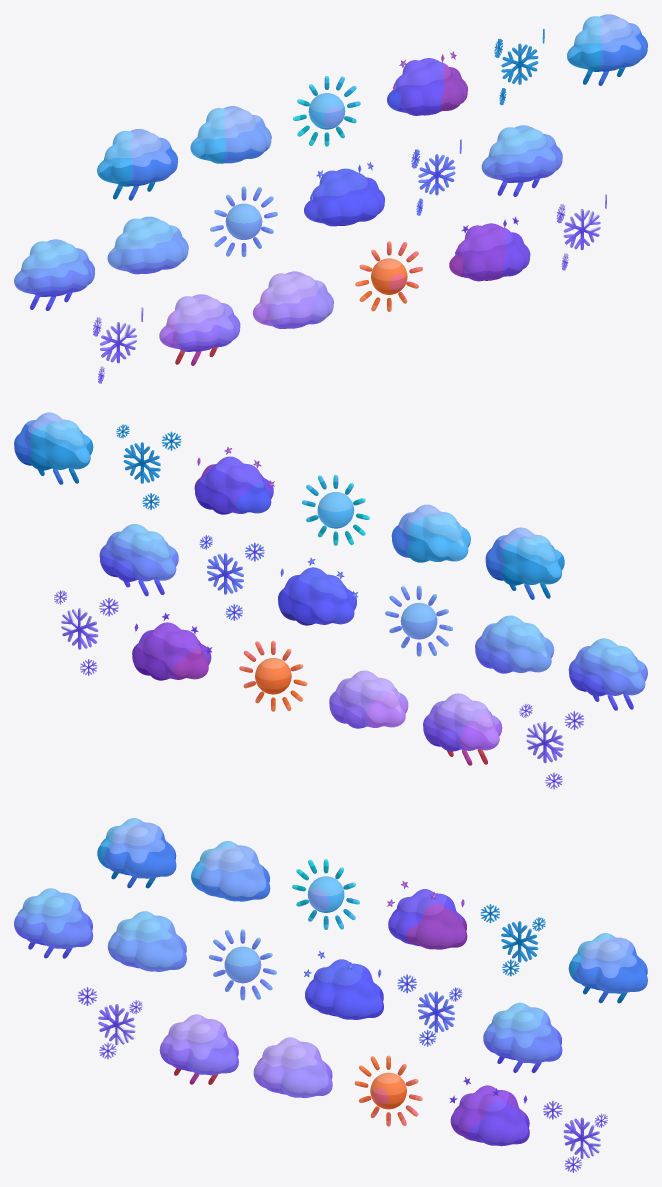
File: weather.glb
3 renders of one model, top to bottom at view 1: azimuth 30°, elevation 25°; view 2: azimuth 150°, elevation 25°; view 3: azimuth 330°, elevation 25°, orthographic.
Parts seen in each view (by area): view 1: Cloud.006, Cloud.010, Cloud.009, Cloud.007, Cloud.011, Cloud.003, Cloud.004, Cloud.001, Cloud.008, Cloud.005, Cloud.002, Sphere (+6 smaller); view 2: Cloud.001, Cloud.004, Cloud.009, Cloud.006, Cloud.010, Cloud.003, Cloud.011, Cloud.007, Cloud.008, Cloud.002, Cloud.005, Sphere.001 (+6 smaller); view 3: Cloud.011, Cloud.004, Cloud.009, Cloud.001, Cloud.003, Cloud.006, Cloud.010, Cloud.007, Cloud.002, Cloud.008, Cloud.005, Sphere.001 (+6 smaller).
Part boxes in pixels (box(x1,y1,x2,y2)): Cloud.006: box(107, 216, 188, 274); Cloud.010: box(481, 125, 562, 182); Cloud.009: box(252, 271, 333, 328); Cloud.007: box(159, 294, 240, 351); Cloud.011: box(567, 14, 647, 71); Cloud.003: box(190, 106, 271, 163); Cloud.004: box(14, 239, 94, 296); Cloud.001: box(97, 129, 177, 186); Cloud.008: box(449, 223, 530, 281); Cloud.005: box(304, 168, 384, 226); Cloud.002: box(387, 58, 467, 115); Sphere: box(308, 93, 345, 129); Cloud.001: box(485, 527, 564, 585); Cloud.004: box(568, 638, 647, 696); Cloud.009: box(329, 670, 408, 728); Cloud.006: box(475, 615, 554, 673); Cloud.010: box(99, 524, 178, 581); Cloud.003: box(391, 504, 470, 562); Cloud.011: box(14, 412, 93, 470); Cloud.007: box(423, 693, 502, 751); Cloud.008: box(132, 622, 211, 680); Cloud.002: box(194, 456, 273, 514); Cloud.005: box(278, 567, 356, 625); Sphere.001: box(400, 602, 437, 639); Cloud.011: box(568, 933, 647, 993); Cloud.004: box(14, 888, 93, 948); Cloud.009: box(253, 1037, 332, 1097); Cloud.001: box(97, 818, 176, 878); Cloud.003: box(191, 841, 270, 901); Cloud.006: box(107, 911, 186, 971); Cloud.010: box(483, 1002, 562, 1063); Cloud.007: box(159, 1014, 238, 1075); Cloud.002: box(388, 889, 467, 949); Cloud.008: box(450, 1085, 529, 1146); Cloud.005: box(305, 959, 383, 1019); Sphere.001: box(224, 946, 261, 983).
Size of the model in its own units: 3.28 by 1.28 by 0.2971.
3 materials, 3 textured.
